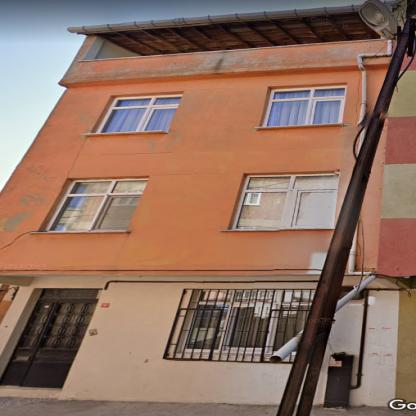door: (2, 300, 97, 387)
window: (186, 291, 314, 351), (235, 174, 339, 228), (46, 179, 147, 231), (266, 87, 345, 127), (99, 96, 181, 133), (42, 290, 100, 298)
